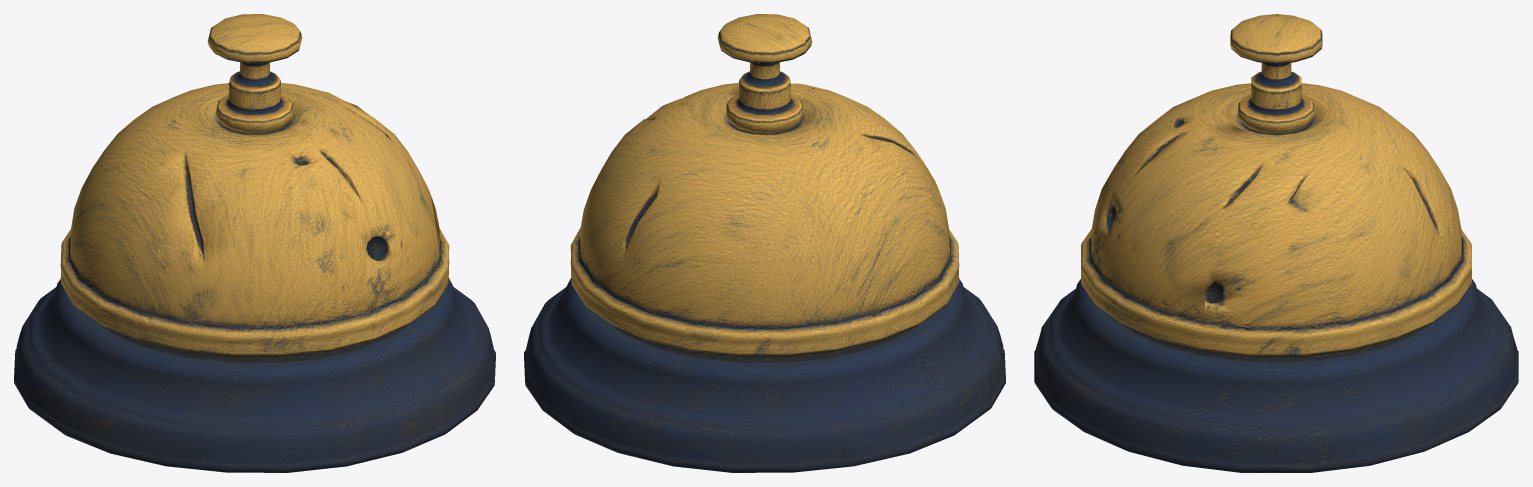
File: ReceptionBell.fbx
The picture shows the model from 3 angles, left to right: view 1: azimuth 30°, elevation 25°; view 2: azimuth 150°, elevation 25°; view 3: azimuth 270°, elevation 25°; orthographic projection.
Visible parts, largest first — view 1: tripo_node_dfc38b28-f1bc-4345-b7ce-75ce4c5f1e13; view 2: tripo_node_dfc38b28-f1bc-4345-b7ce-75ce4c5f1e13; view 3: tripo_node_dfc38b28-f1bc-4345-b7ce-75ce4c5f1e13.
Boxes of the visible parts, x1=… form: tripo_node_dfc38b28-f1bc-4345-b7ce-75ce4c5f1e13: x1=14, y1=14, x2=495, y2=472; tripo_node_dfc38b28-f1bc-4345-b7ce-75ce4c5f1e13: x1=524, y1=14, x2=1005, y2=472; tripo_node_dfc38b28-f1bc-4345-b7ce-75ce4c5f1e13: x1=1034, y1=14, x2=1518, y2=472.
Size of the model in its own units: 99.22 by 78.47 by 99.61.
Materials: 1 (1 with a texture image).
